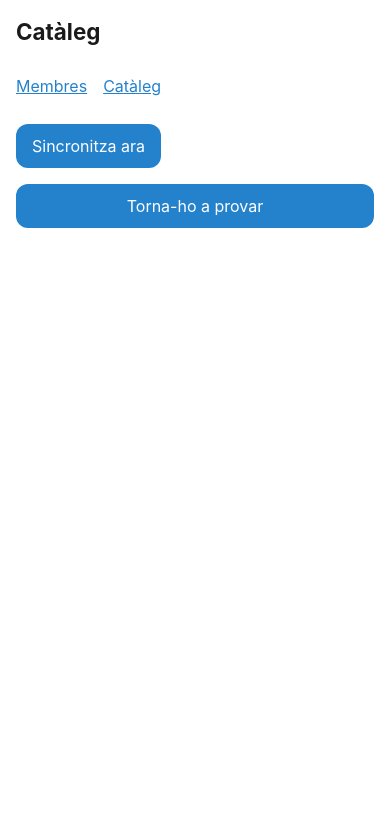
Test: retains a failed sync report and shows retry after an initial load failure
Click the button "Torna-ho a provar". click: coordinates (195, 206)
box: left=16, top=184, right=374, bottom=228
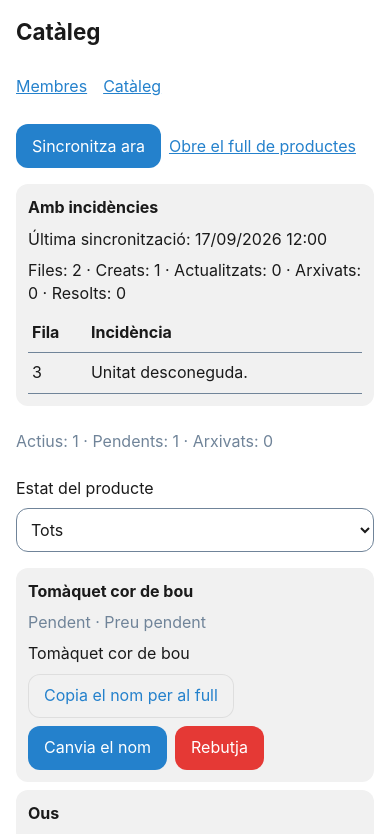
Expected: the text "Amb incidències" is shown, left=28, top=198, right=158, bottom=218
Click the button "Sincronitza ara". click: coordinates (88, 146)
box: left=16, top=124, right=161, bottom=168
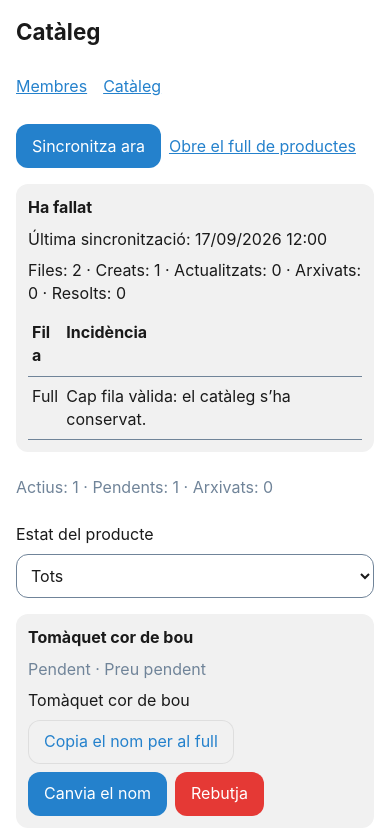
Expected: the text "Cap fila vàlida: el catàleg s’ha conservat." is shown, left=62, top=376, right=362, bottom=440
